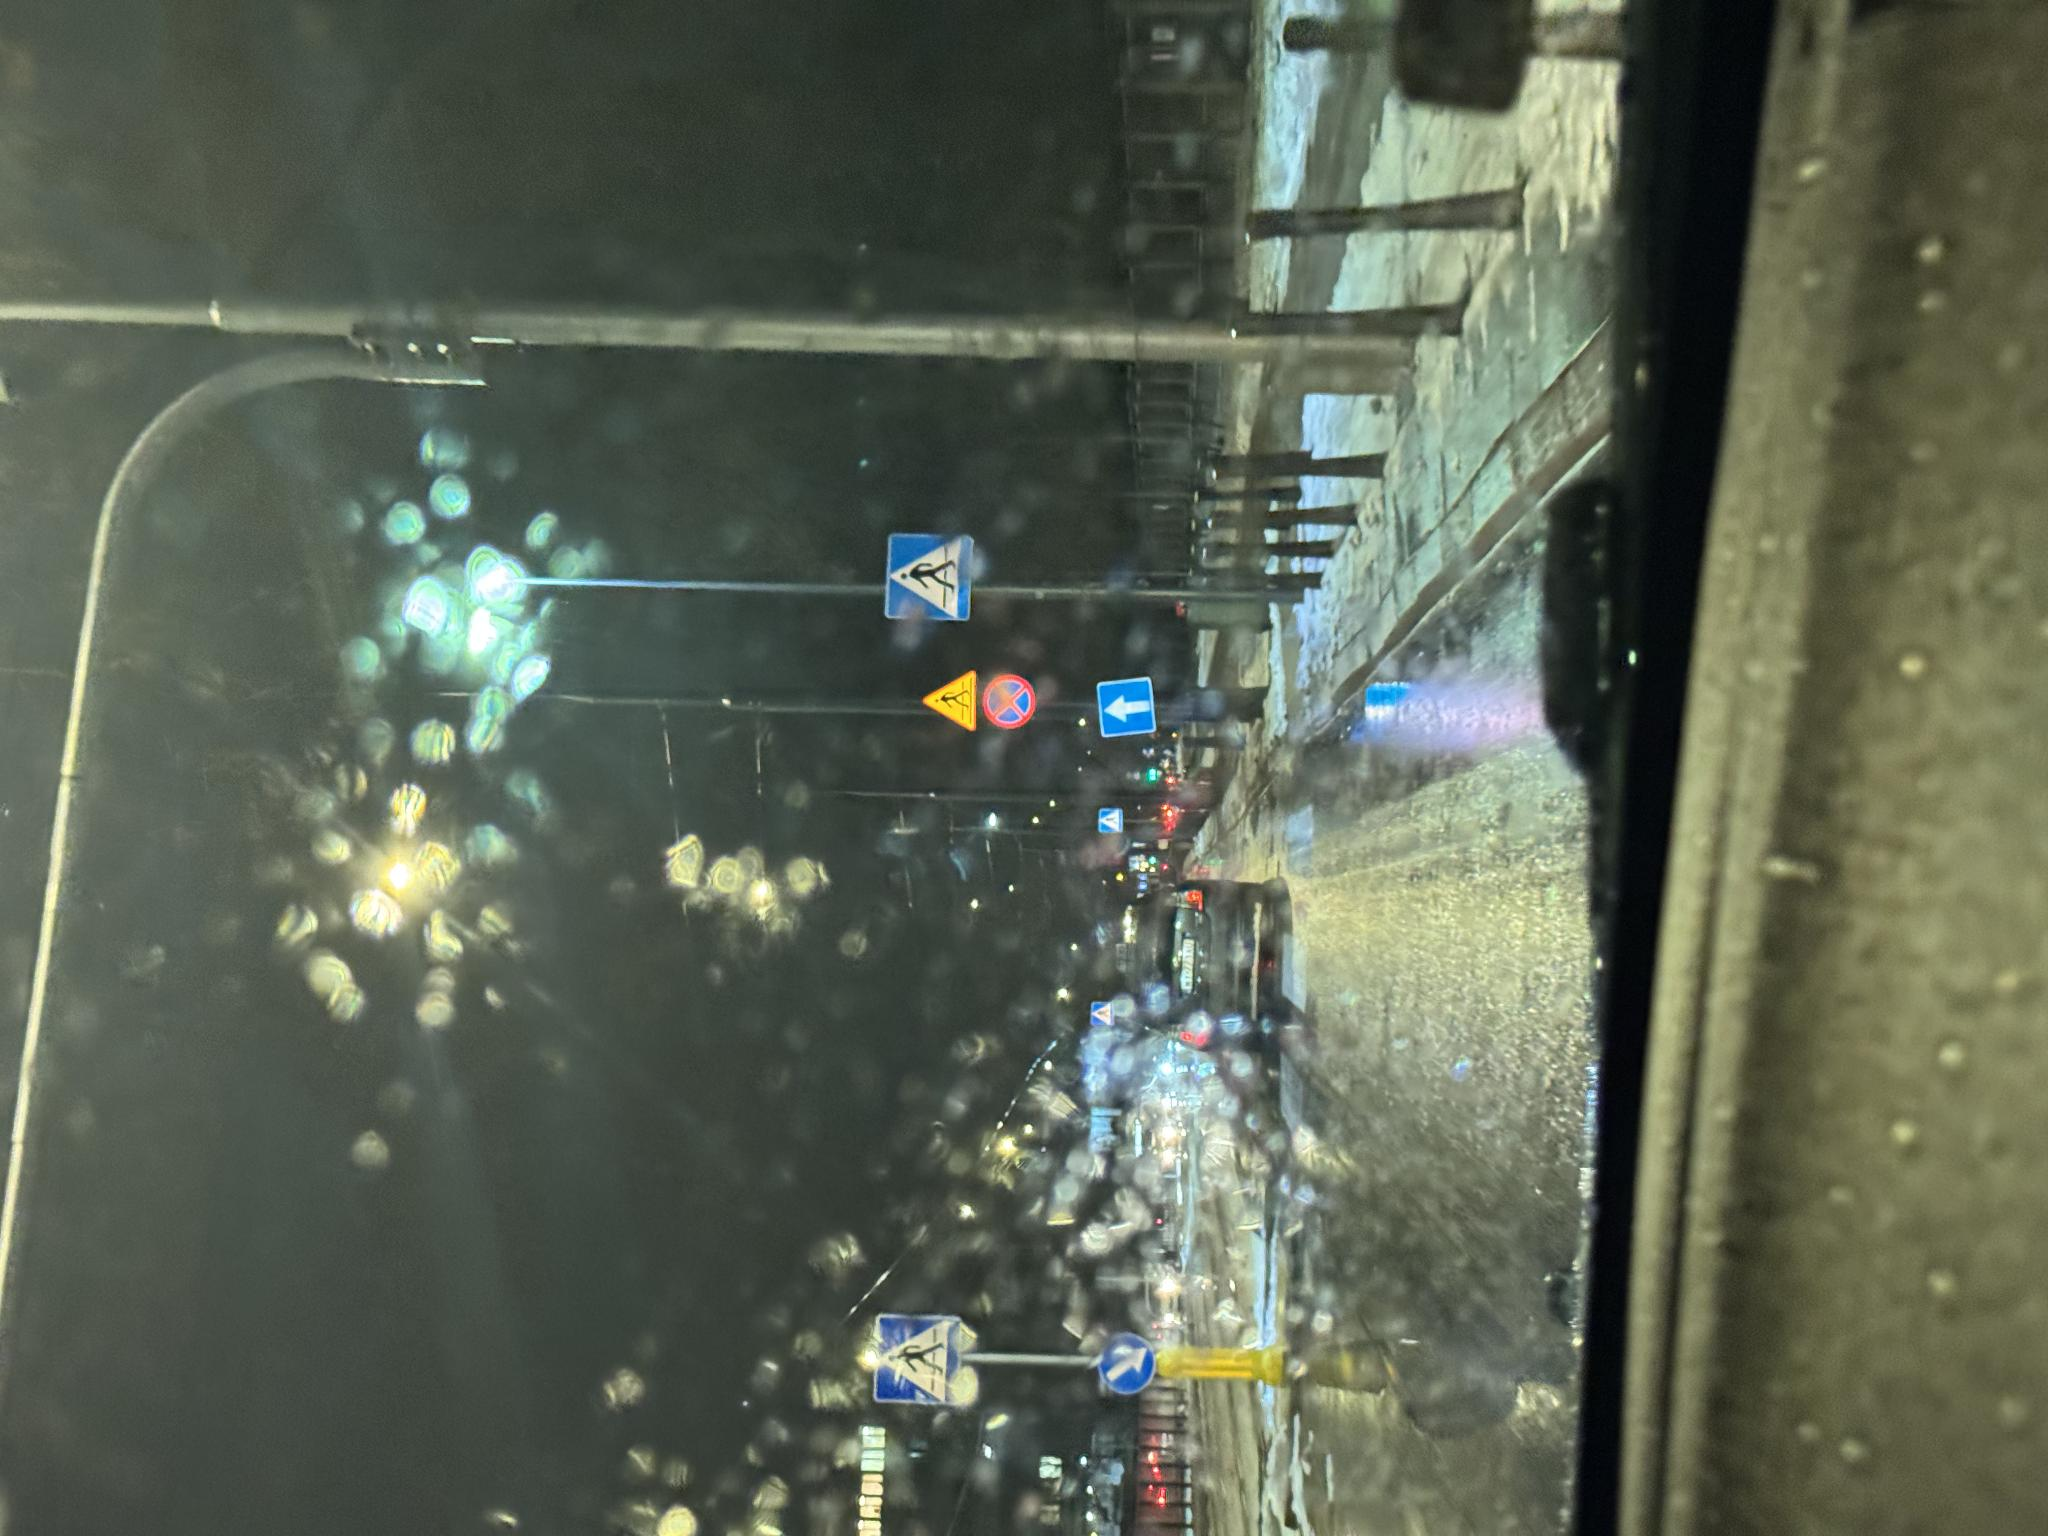information: (129, 872, 223, 958), (915, 885, 1003, 975), (798, 1094, 862, 1158), (702, 1098, 730, 1124), (510, 1090, 536, 1114)
mandatory: (142, 1100, 204, 1156)
prohibitory: (808, 982, 862, 1038)
warning: (803, 921, 865, 977)
